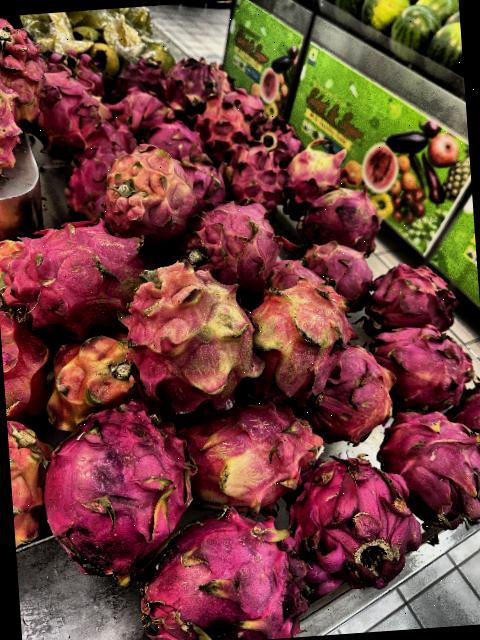buah-naga-belum-matang: (123, 260, 258, 409), (179, 402, 324, 504), (244, 276, 358, 398), (103, 142, 194, 236), (38, 334, 136, 421), (7, 414, 60, 550), (0, 13, 55, 123), (282, 140, 350, 207), (0, 50, 25, 186)
buah-naga-matang: (42, 402, 196, 580), (143, 522, 308, 640), (288, 464, 424, 590), (2, 216, 147, 328), (373, 404, 480, 530), (363, 311, 478, 416), (177, 189, 279, 286), (360, 258, 467, 334), (309, 348, 394, 438), (292, 183, 390, 260), (27, 66, 102, 149), (298, 232, 376, 308), (227, 140, 291, 217), (102, 85, 174, 134), (194, 94, 246, 156), (168, 56, 226, 106), (249, 111, 304, 160), (106, 58, 165, 94), (147, 122, 200, 162)
